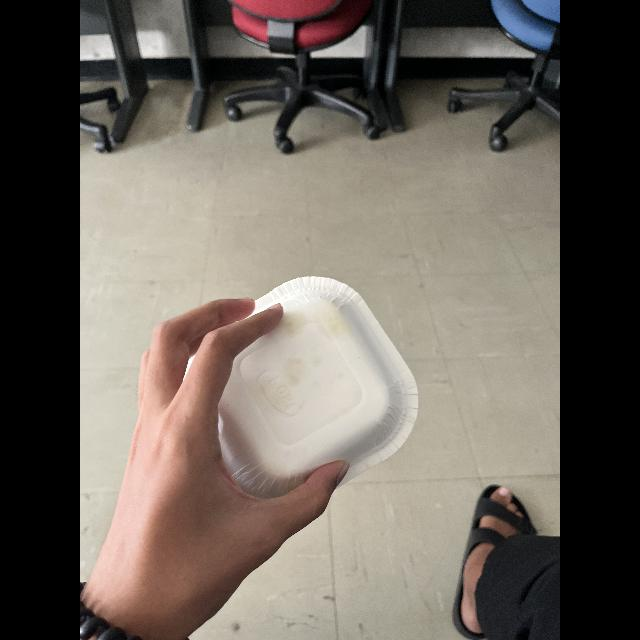cardboard_bowl: (194, 274, 426, 506)
